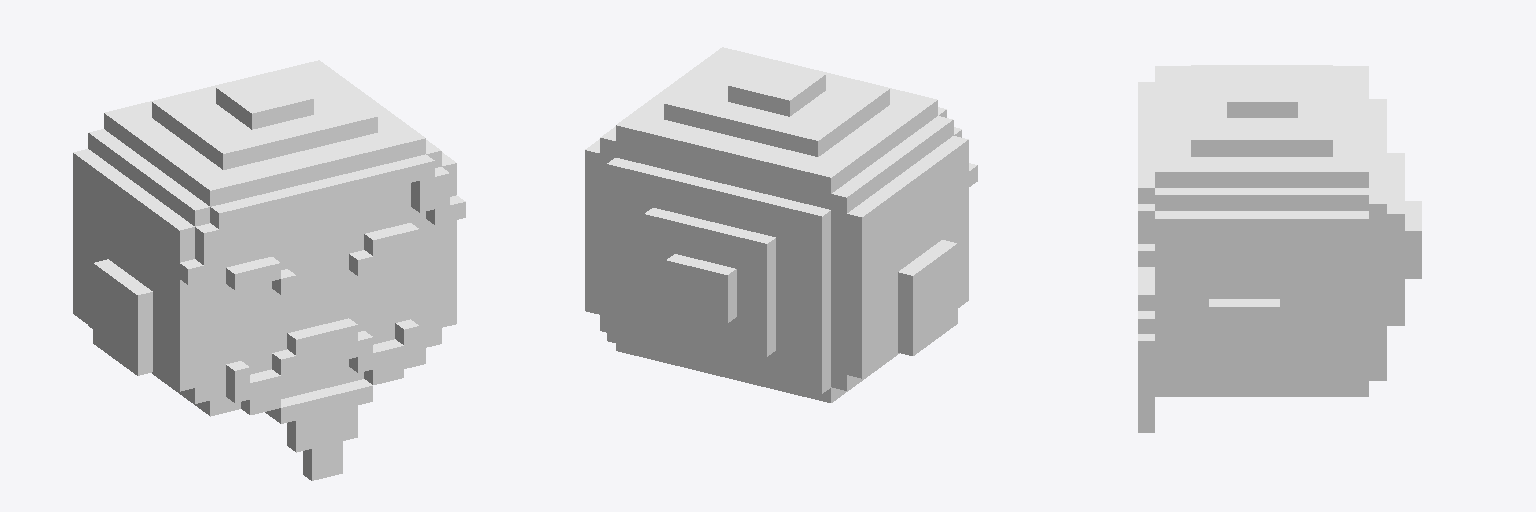
File: player1Head.obj
The picture shows the model from 3 angles: view 1: azimuth 30°, elevation 25°; view 2: azimuth 150°, elevation 25°; view 3: azimuth 270°, elevation 25°; orthographic projection.
Visible parts, largest first — view 1: player1Head; view 2: player1Head; view 3: player1Head.
Boxes of the visible parts, <box> form: player1Head: <box>73,60,465,480</box>; player1Head: <box>585,47,977,402</box>; player1Head: <box>1138,65,1421,432</box>.
Size of the model in its own units: 20 by 21 by 16.